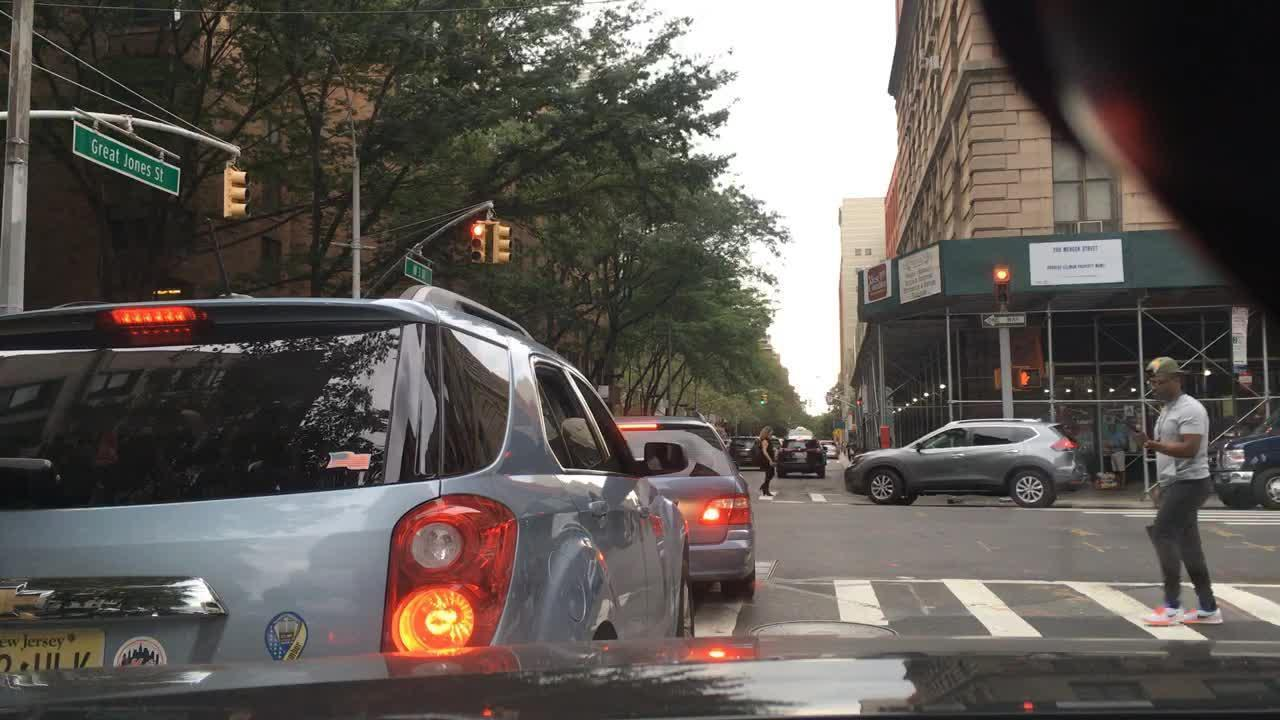chevrolet: (0, 546, 78, 631)
